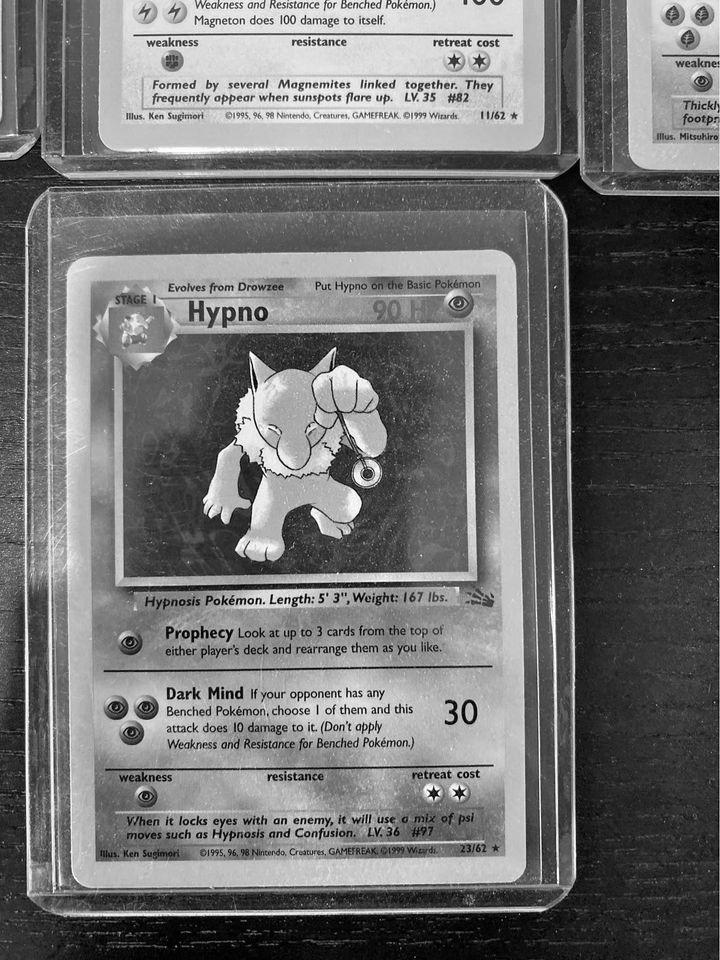card: (64, 248, 528, 889), (98, 0, 548, 153)
